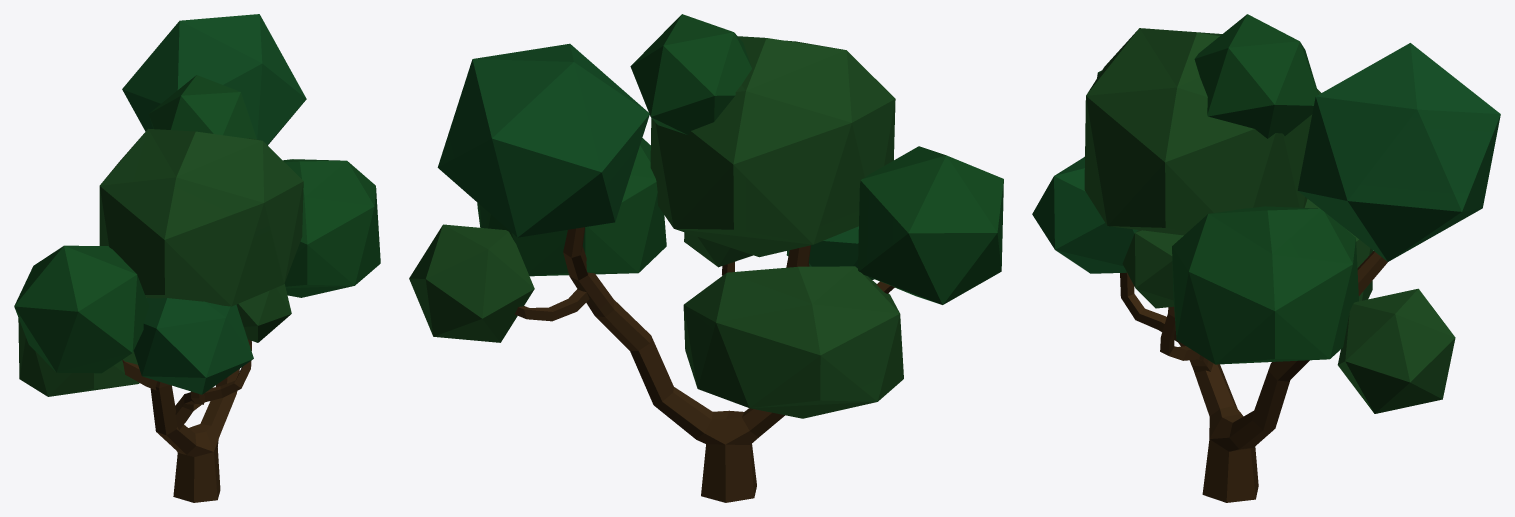
File: tree3.FBX
3 views of the same model, side by side, from view 1: azimuth 30°, elevation 25°; view 2: azimuth 150°, elevation 25°; view 3: azimuth 270°, elevation 25° (orthographic). The views are drawn at different scales.
Visible parts, largest first — view 1: tree3; view 2: tree3; view 3: tree3.
Part boxes in pixels (x1,y1,x2,y2): tree3: [14, 14, 380, 502]; tree3: [409, 14, 1003, 502]; tree3: [1032, 14, 1500, 502].
Size of the model in its own units: 212 by 204 by 180.
